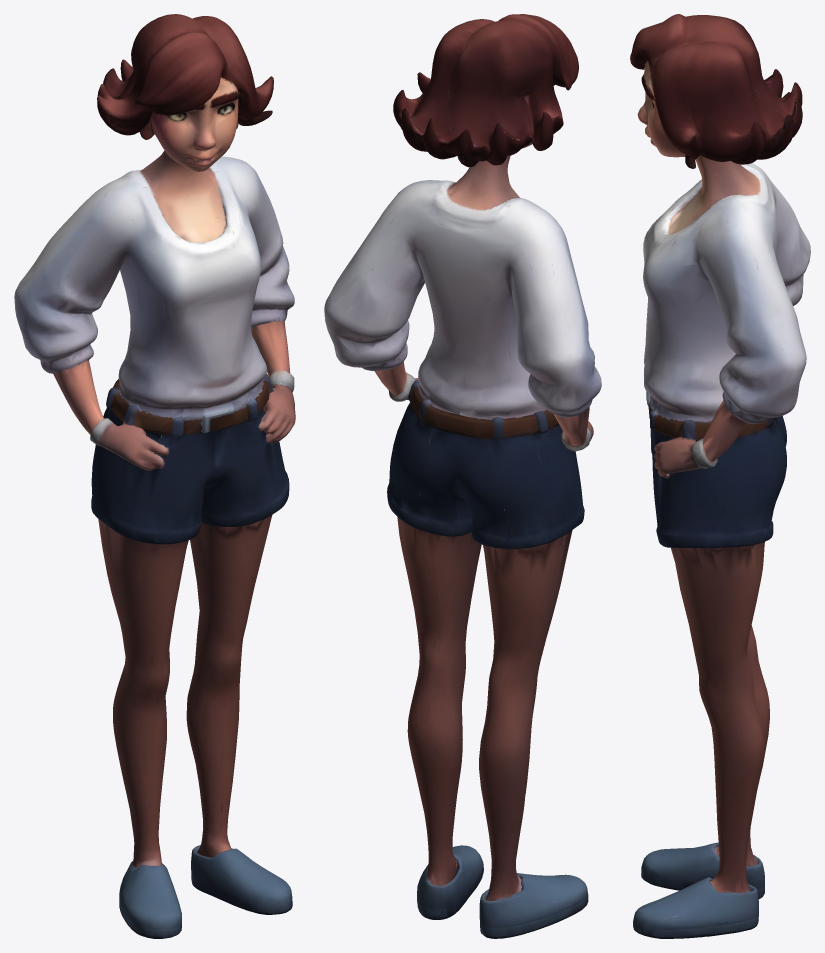
Rendered from trellis_ana_pbr_v2.glb.
The picture shows the model from 3 angles, left to right: view 1: azimuth 30°, elevation 25°; view 2: azimuth 150°, elevation 25°; view 3: azimuth 270°, elevation 25°; orthographic projection.
Visible parts, largest first — view 1: Mesh_0; view 2: Mesh_0; view 3: Mesh_0.
Part boxes in pixels (x1,y1,x2,y2): Mesh_0: (14,14,295,938); Mesh_0: (324,14,601,938); Mesh_0: (630,14,810,938).
Bounding box in the file's own units: 0.5236 × 1.72 × 0.3189.
Materials: 1 (1 with a texture image).
